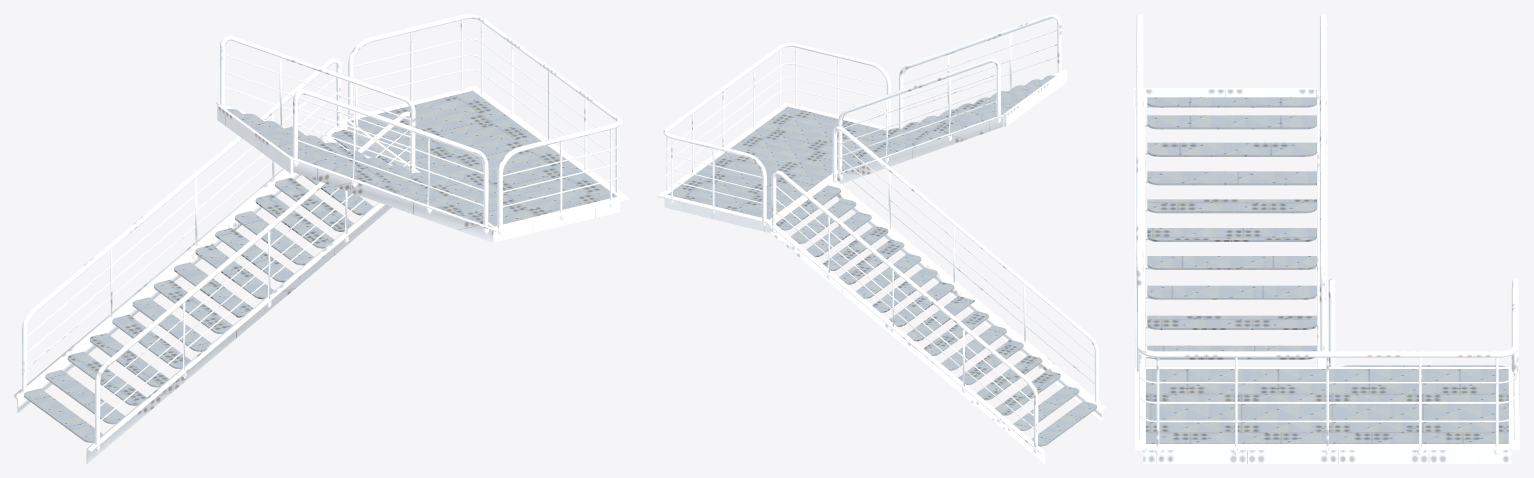
The model's file is SM_StairsMetal.fbx.
3 views of the same model, side by side, from view 1: azimuth 30°, elevation 25°; view 2: azimuth 150°, elevation 25°; view 3: azimuth 270°, elevation 25° (orthographic). The views are drawn at different scales.
Visible parts, largest first — view 1: SM_StairsMetal_LOD0; view 2: SM_StairsMetal_LOD0; view 3: SM_StairsMetal_LOD0.
Part boxes in pixels (x1,y1,x2,y2): SM_StairsMetal_LOD0: (14, 14, 628, 463); SM_StairsMetal_LOD0: (657, 14, 1105, 463); SM_StairsMetal_LOD0: (1134, 14, 1519, 463).
Size of the model in its own units: 737 by 425 by 607.
